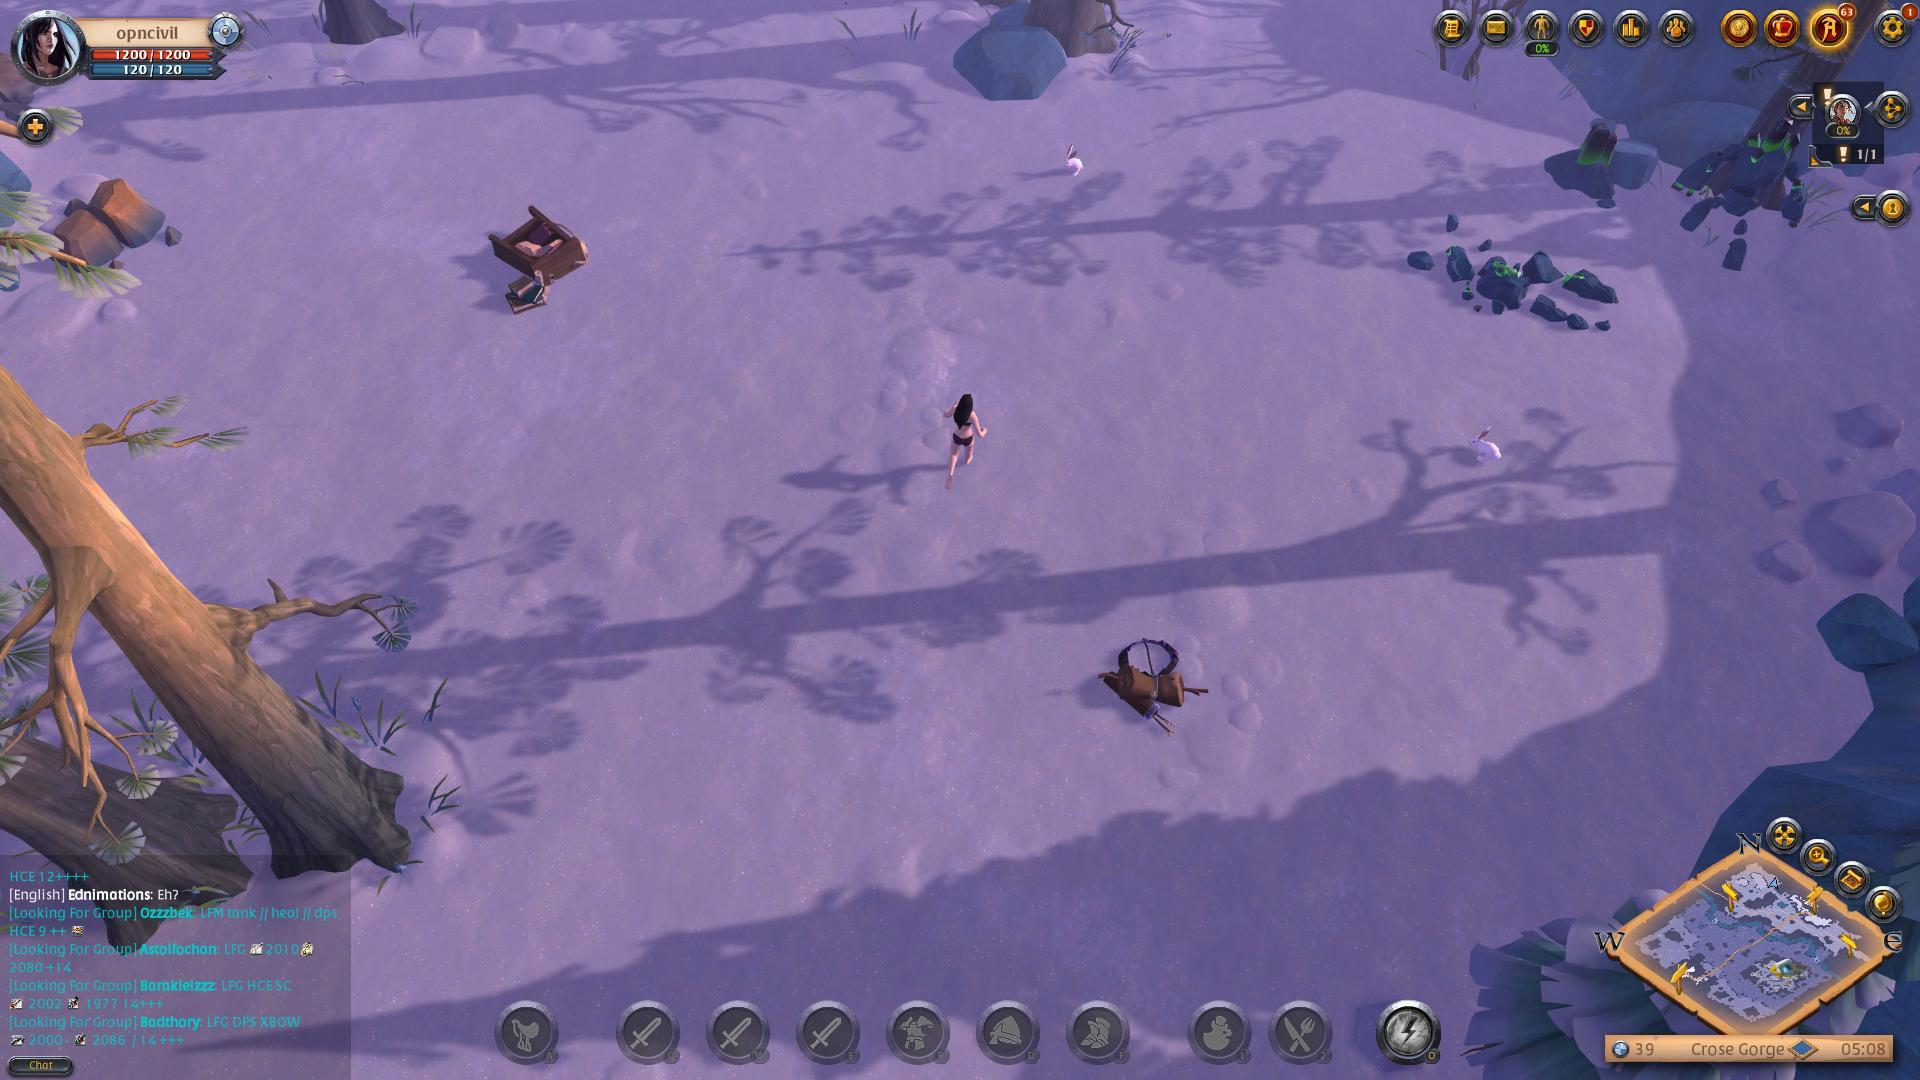limestone: (49, 170, 181, 289)
tin_ore: (1542, 115, 1634, 218)
